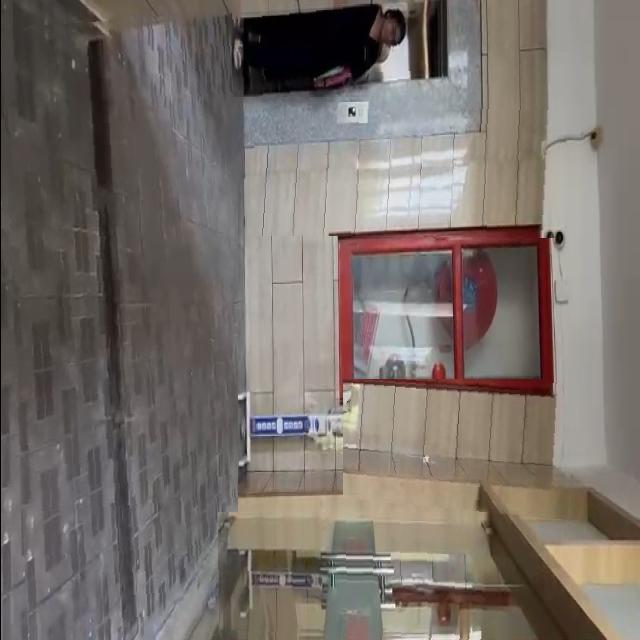door: (217, 512, 494, 640)
floor: (0, 11, 237, 640)
moving_object: (231, 3, 410, 98)
wall: (254, 102, 562, 238), (342, 379, 578, 520)
